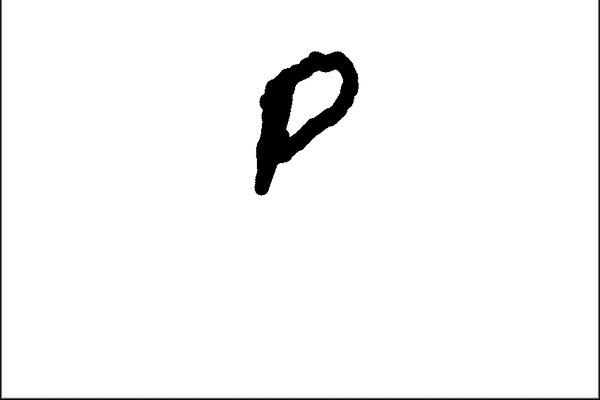P: (245, 39, 368, 198)
